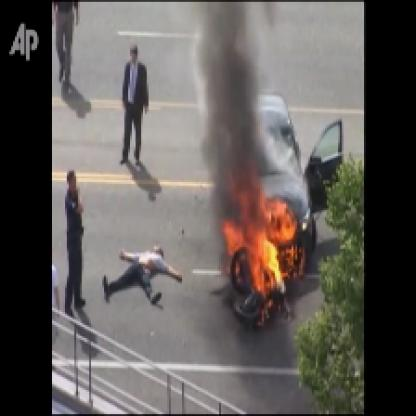Fire: (228, 163, 299, 312)
Smoke: (191, 2, 266, 219)
